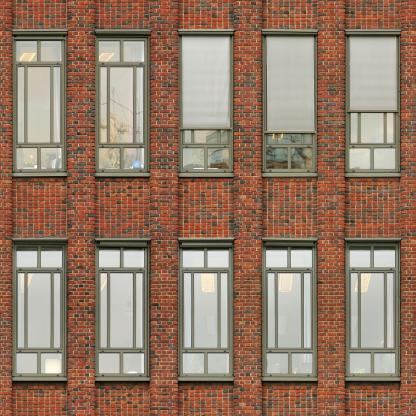Building Outline: (1, 0, 416, 416)
Facade: (1, 0, 415, 416)
Floor: (0, 0, 415, 200), (1, 210, 416, 407)
Floor Slab: (1, 200, 416, 209), (1, 407, 416, 416)
Pillar: (149, 0, 178, 416), (233, 0, 262, 416), (317, 0, 345, 416), (67, 0, 95, 416)
Window: (345, 34, 400, 173), (179, 34, 234, 173), (263, 34, 318, 173), (345, 239, 400, 377), (262, 239, 317, 377), (179, 240, 234, 377), (13, 33, 66, 172), (96, 34, 149, 173), (13, 239, 66, 377), (97, 239, 150, 377)
